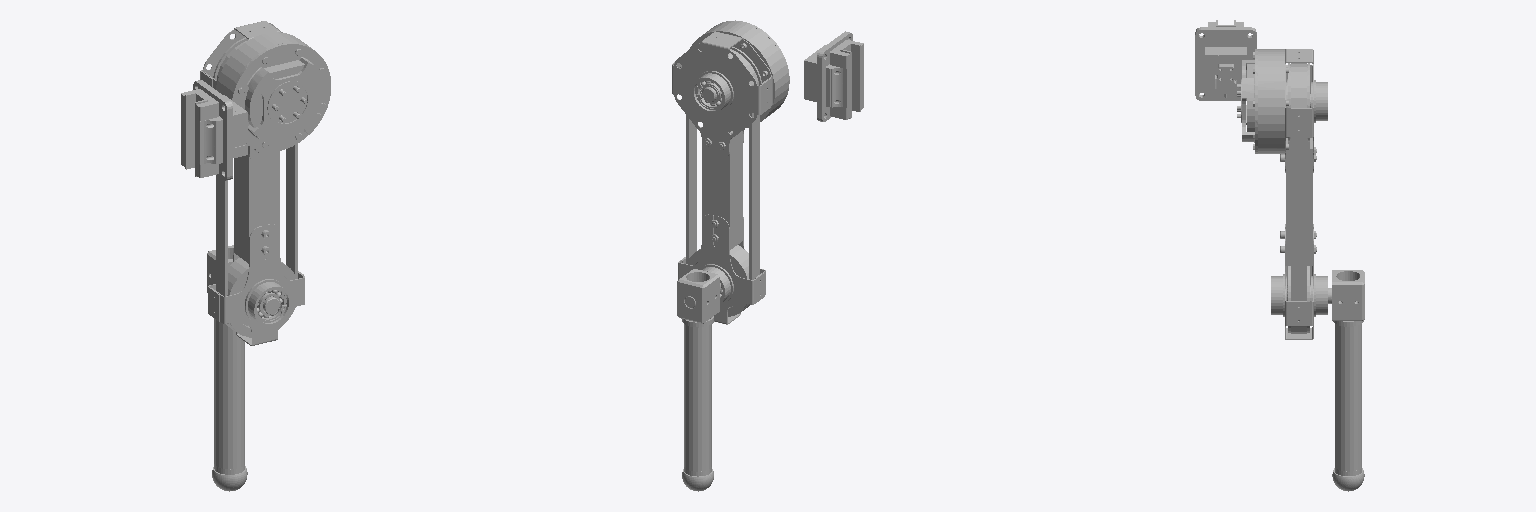
URDF robot description (v6):
<?xml version="1.0" encoding="utf-8"?>
<!-- This URDF was automatically created by SolidWorks to URDF Exporter! Originally created by [author] ([email redacted]) 
     Commit Version: 1.6.0-1-g15f4949  Build Version: 1.6.7594.29634
     For more information, please see http://wiki.ros.org/sw_urdf_exporter -->
<robot
  name="v6">
  <link
    name="base_link">
    <inertial>
      <origin
        xyz="0.01039 8.6308E-05 0.00018678"
        rpy="0 0 0" />
      <mass
        value="0.37766" />
      <inertia
        ixx="0.00016094"
        ixy="-7.2687E-08"
        ixz="6.3886E-08"
        iyy="0.00011183"
        iyz="2.8019E-07"
        izz="6.5676E-05" />
    </inertial>
    <visual>
      <origin
        xyz="0 0 0"
        rpy="0 0 0" />
      <geometry>
        <mesh
          filename="../meshes/base_link.STL" />
      </geometry>
      <material
        name="">
        <color
          rgba="0.75294 0.75294 0.75294 1" />
      </material>
    </visual>
    <collision>
      <origin
        xyz="0 0 0"
        rpy="0 0 0" />
      <geometry>
        <mesh
          filename="../meshes/base_link.STL" />
      </geometry>
    </collision>
  </link>
  <link
    name="hip">
    <inertial>
      <origin
        xyz="0.0027379 -0.00020066 -0.056426"
        rpy="0 0 0" />
      <mass
        value="0.53716" />
      <inertia
        ixx="0.00057698"
        ixy="1.5435E-06"
        ixz="-1.1156E-08"
        iyy="0.00033506"
        iyz="1.9459E-08"
        izz="0.00034484" />
    </inertial>
    <visual>
      <origin
        xyz="0 0 0"
        rpy="0 0 0" />
      <geometry>
        <mesh
          filename="../meshes/hip.STL" />
      </geometry>
      <material
        name="">
        <color
          rgba="0.75294 0.75294 0.75294 1" />
      </material>
    </visual>
    <collision>
      <origin
        xyz="0 0 0"
        rpy="0 0 0" />
      <geometry>
        <mesh
          filename="../meshes/hip.STL" />
      </geometry>
    </collision>
  </link>
  <joint
    name="urdf_force_sensor"
    type="fixed">
    <origin
      xyz="0.036 0 0"
      rpy="1.5708 0 -1.5708" />
    <parent
      link="base_link" />
    <child
      link="hip" />
    <axis
      xyz="0 0 0" />
  </joint>
  <link
    name="link1">
    <inertial>
      <origin
        xyz="0.054312 6.3584E-06 0.039428"
        rpy="0 0 0" />
      <mass
        value="1.2086" />
      <inertia
        ixx="0.00062066"
        ixy="-1.8972E-07"
        ixz="1.6441E-06"
        iyy="0.00095221"
        iyz="-6.5074E-08"
        izz="0.0013698" />
    </inertial>
    <visual>
      <origin
        xyz="0 0 0"
        rpy="0 0 0" />
      <geometry>
        <mesh
          filename="../meshes/link1.STL" />
      </geometry>
      <material
        name="">
        <color
          rgba="0.75294 0.75294 0.75294 1" />
      </material>
    </visual>
    <collision>
      <origin
        xyz="0 0 0"
        rpy="0 0 0" />
      <geometry>
        <mesh
          filename="../meshes/link1.STL" />
      </geometry>
    </collision>
  </link>
  <joint
    name="urdf_hip"
    type="revolute">
    <origin
      xyz="-0.01525 0 -0.059"
      rpy="1.5708 0 -1.5708" />
    <parent
      link="hip" />
    <child
      link="link1" />
    <axis
      xyz="0 0 1" />
    <limit
      effort="12"
      velocity="38.2" />
  </joint>
  <link
    name="link2">
    <inertial>
      <origin
        xyz="0.075345 1.0469E-08 -7.387E-05"
        rpy="0 0 0" />
      <mass
        value="0.13548" />
      <inertia
        ixx="2.0106E-05"
        ixy="-5.0085E-13"
        ixz="9.6434E-11"
        iyy="6.3048E-05"
        iyz="-4.4738E-11"
        izz="6.3774E-05" />
    </inertial>
    <visual>
      <origin
        xyz="0 0 0"
        rpy="0 0 0" />
      <geometry>
        <mesh
          filename="../meshes/link2.STL" />
      </geometry>
      <material
        name="">
        <color
          rgba="0.75294 0.75294 0.75294 1" />
      </material>
    </visual>
    <collision>
      <origin
        xyz="0 0 0"
        rpy="0 0 0" />
      <geometry>
        <mesh
          filename="../meshes/link2.STL" />
      </geometry>
    </collision>
  </link>
  <joint
    name="urdf_knee"
    type="revolute">
    <origin
      xyz="0.2 0 0.099"
      rpy="0 0 0" />
    <parent
      link="link1" />
    <child
      link="link2" />
    <axis
      xyz="0 0 1" />
    <limit
      effort="12"
      velocity="38.2" />
  </joint>
</robot>

--- Render facts (derived) ---
3 views of the same robot in one strip: view 1: azimuth 30°, elevation 25°; view 2: azimuth 150°, elevation 25°; view 3: azimuth 270°, elevation 25° (orthographic).
Model v6 with 4 links and 3 joints (2 revolute, 1 fixed), rooted at base_link, posed all joints at 0.
Visible links, largest first — view 1: link1, link2, base_link; view 2: link1, link2, base_link; view 3: link1, link2, base_link.
Link boxes in pixels (<box>): link1: <box>200,21,330,345</box>; link2: <box>207,245,247,491</box>; base_link: <box>181,80,247,180</box>; link1: <box>672,20,789,324</box>; link2: <box>677,269,719,491</box>; base_link: <box>804,31,863,121</box>; link1: <box>1237,49,1355,339</box>; link2: <box>1332,270,1364,491</box>; base_link: <box>1195,20,1256,100</box>.
Size in the robot's own frame: 0.1534 by 0.1578 by 0.449 metres.
Meshes: 4 distinct files referenced, 3 mesh visuals loaded (3 binary STL); not drawn: 1 (reference not matched to a file when rendering).